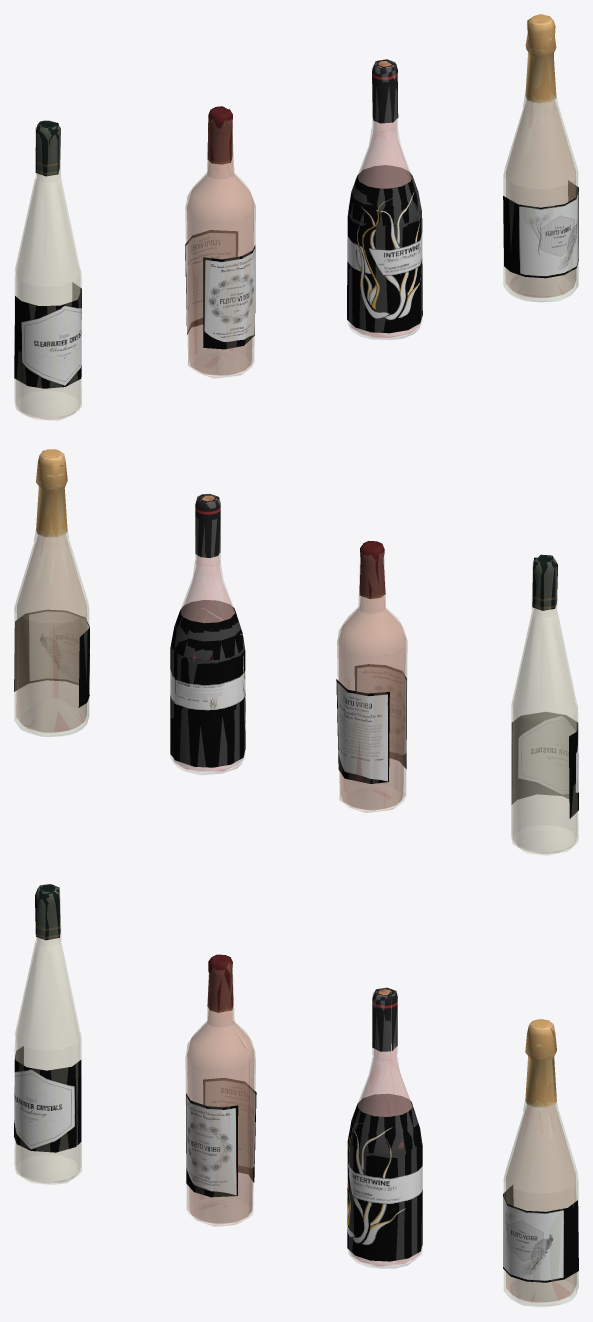
Rendered from isl_wine.glb.
The picture shows the model from 3 angles, top to bottom: view 1: azimuth 30°, elevation 25°; view 2: azimuth 150°, elevation 25°; view 3: azimuth 330°, elevation 25°; orthographic projection.
Parts seen in each view (by area): view 1: wine_bottles_01_bordeaux; view 2: wine_bottles_01_bordeaux; view 3: wine_bottles_01_bordeaux.
Boxes of the visible parts, x1,y1,x2,y2 form: wine_bottles_01_bordeaux: [14, 14, 578, 420]; wine_bottles_01_bordeaux: [14, 449, 578, 855]; wine_bottles_01_bordeaux: [14, 884, 578, 1307].
Bounding box in the file's own units: 0.6758 × 0.332 × 0.0801.
Materials: 12 (9 with a texture image).
